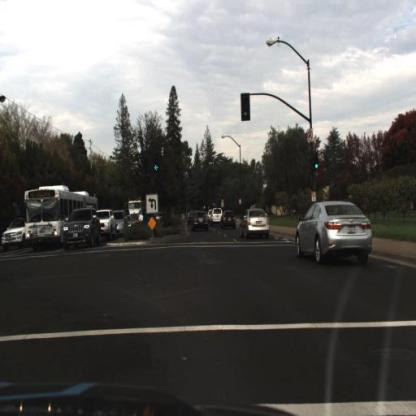car: (294, 194, 377, 268), (62, 206, 104, 250), (239, 207, 273, 242), (2, 215, 28, 250), (97, 209, 118, 239), (111, 209, 130, 241), (191, 210, 211, 234), (220, 207, 238, 233), (114, 210, 128, 235), (213, 206, 223, 228)
trafficLight: (241, 92, 252, 121), (155, 158, 161, 175)
trafficLight-Green: (315, 157, 320, 173)
truck: (23, 185, 98, 249), (128, 197, 149, 232)
